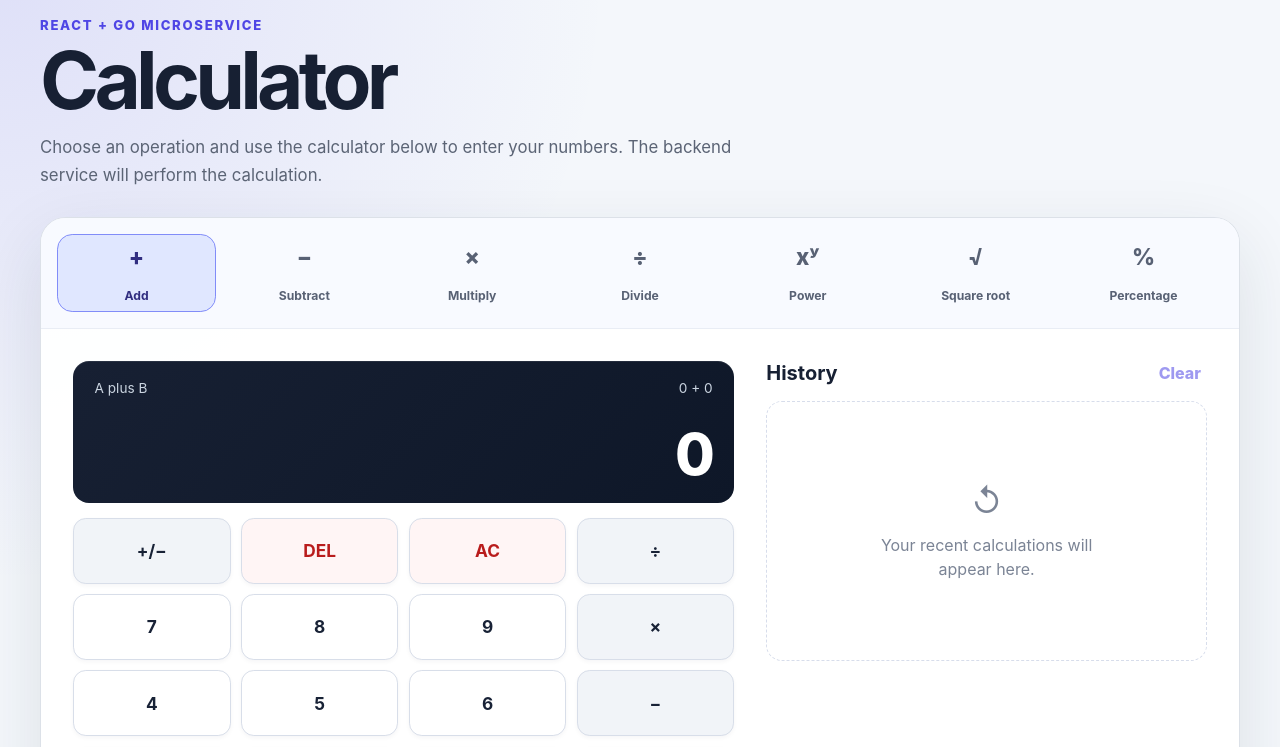
Test case: Calculator › enters values with the keypad and submits an addition request
Click the button "7": (152, 627) [73,594,230,660]
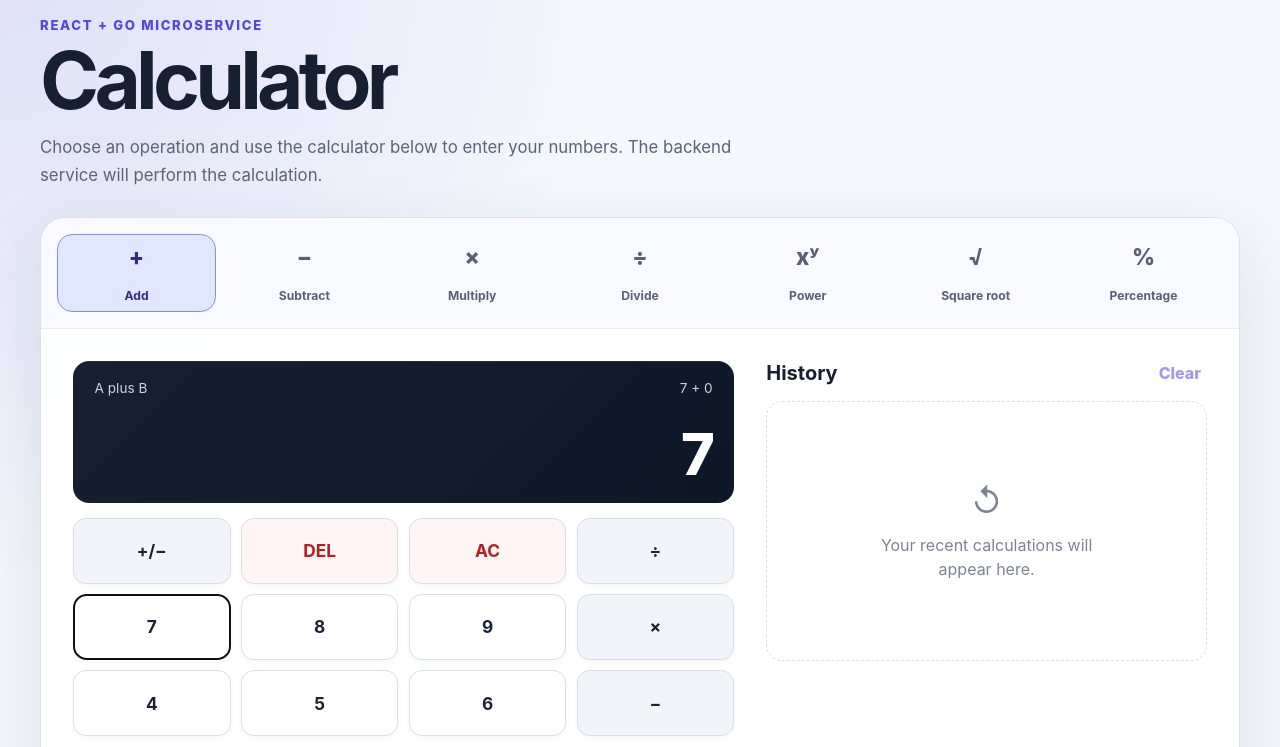
Click the button "+ Add": (136, 273) [57,234,216,312]
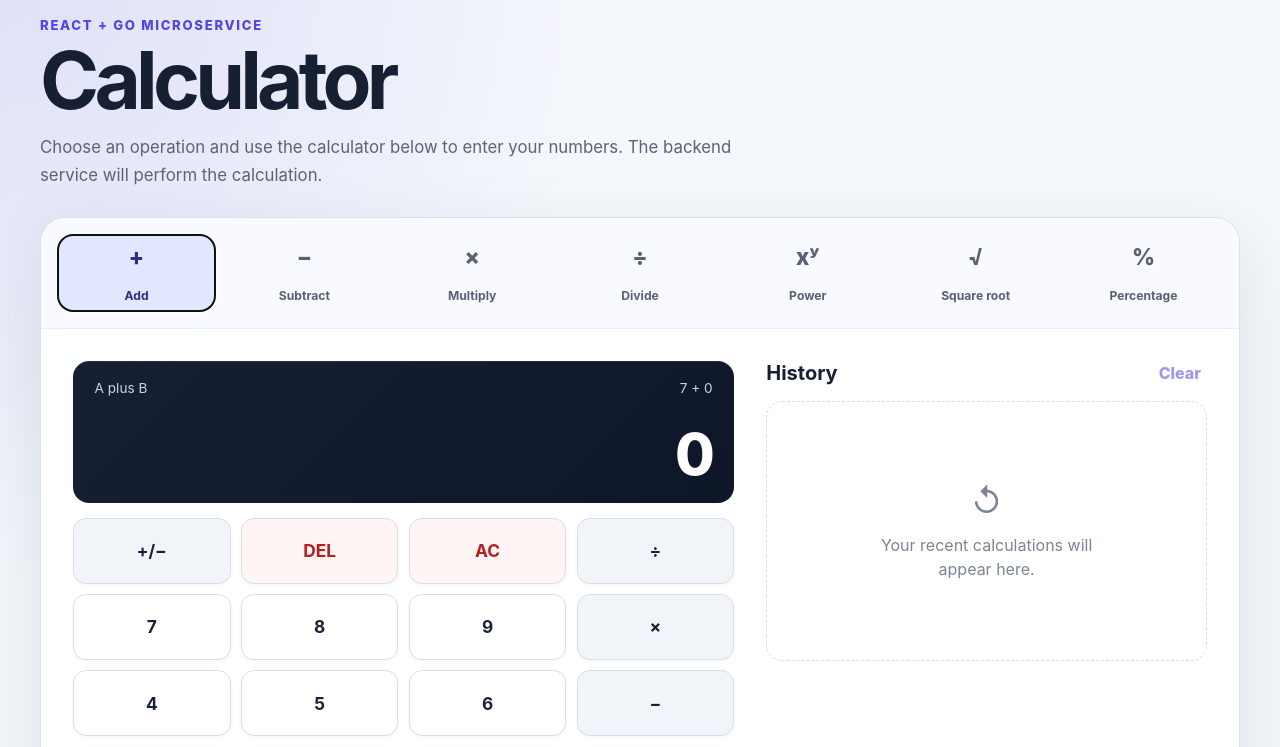
Click the button "5": (320, 703) [241,670,398,736]
(page scrolled)
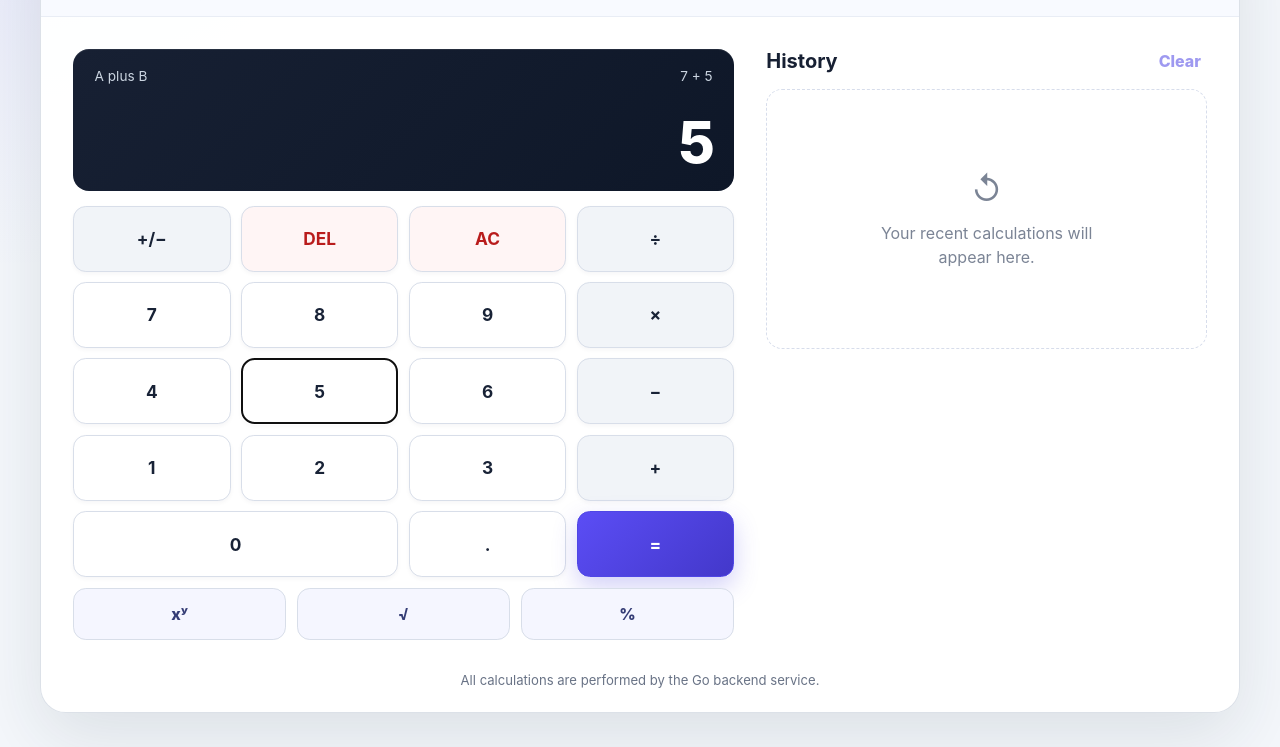
Click the button "=": (655, 544) [577,511,734,577]
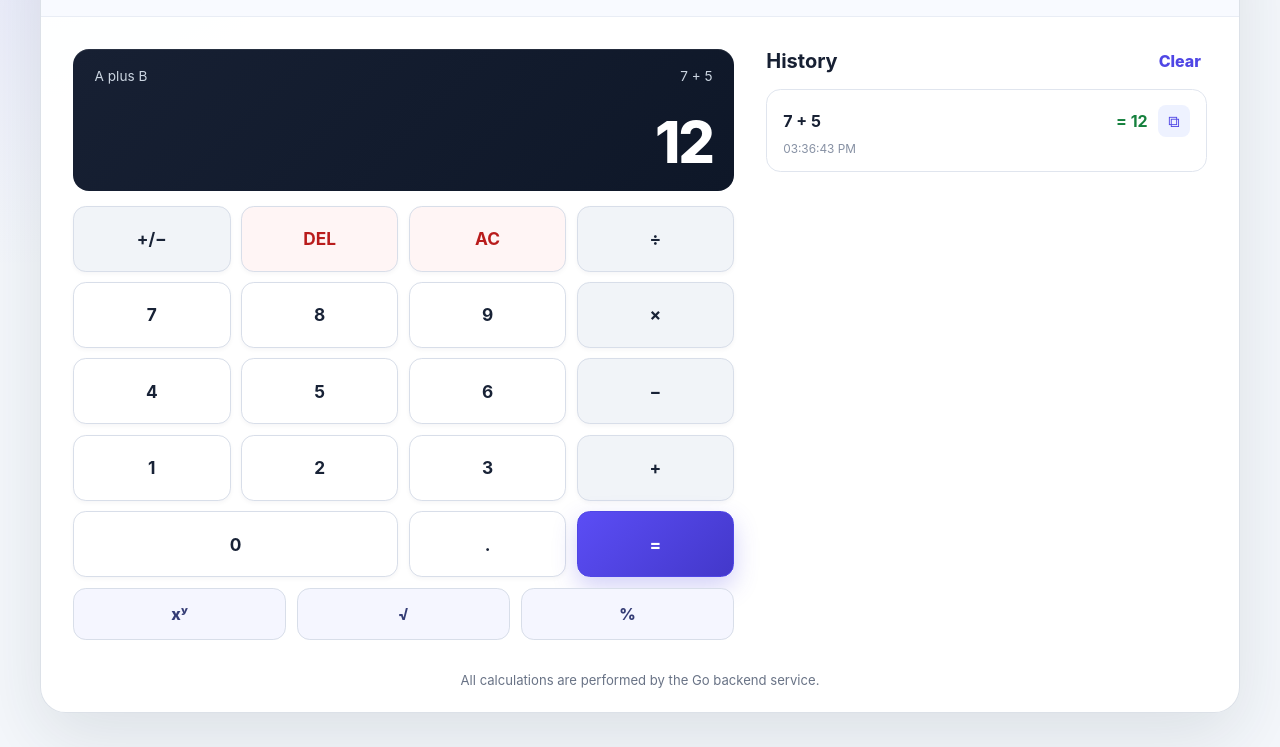
Result: the text named "Calculator display" reads "12" at [655,107,712,177]
